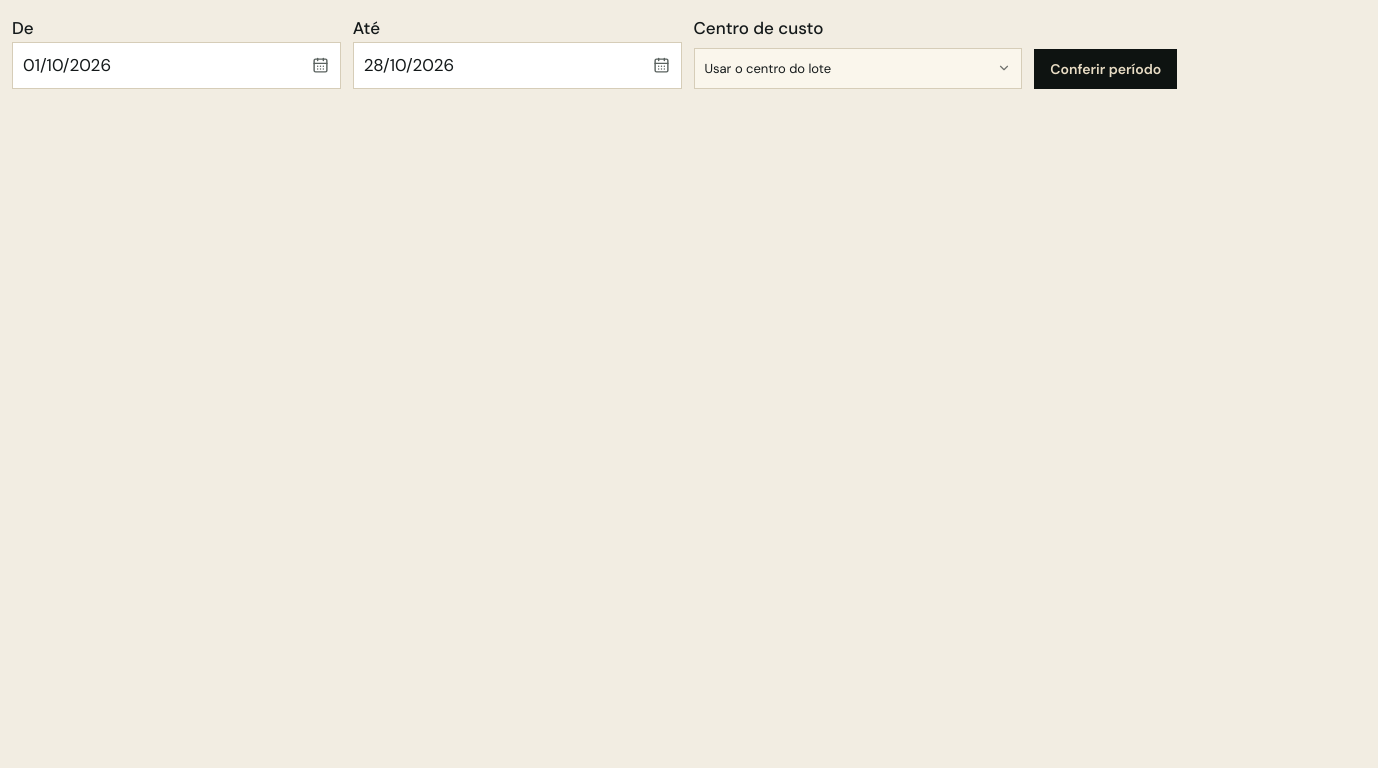
Test case: conferência nutricional dividida › atualiza MS e custo conferidos quando a quantidade e a origem mudam
The image size is (1378, 768).
Click the button "Conferir período": x=1106, y=69 [1034, 49, 1177, 89]
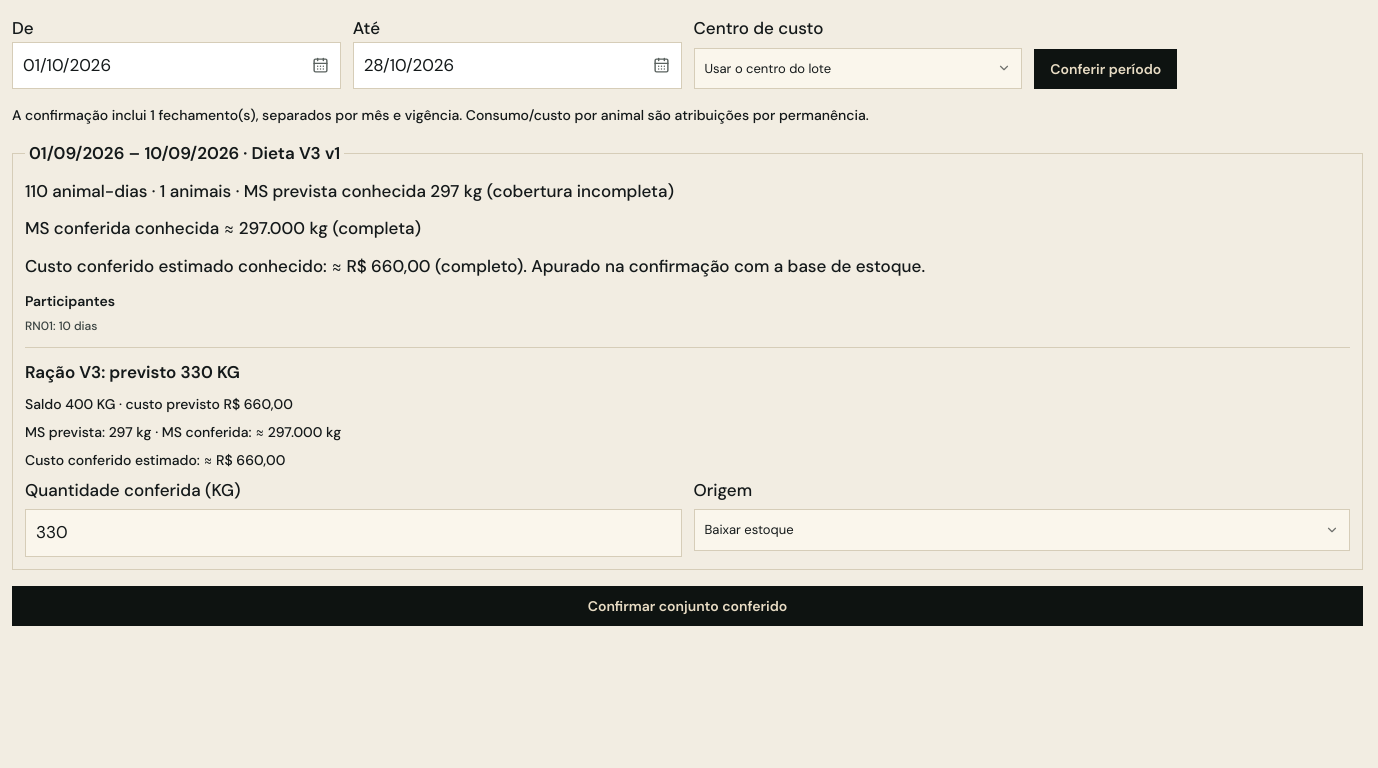
Expected: the text "Ração V3: previsto 330 KG" is shown, [25, 361, 240, 383]
Replace the text in the number field labelled "Quantidade conferida (KG)" with "320": x=353, y=533 [25, 509, 682, 556]
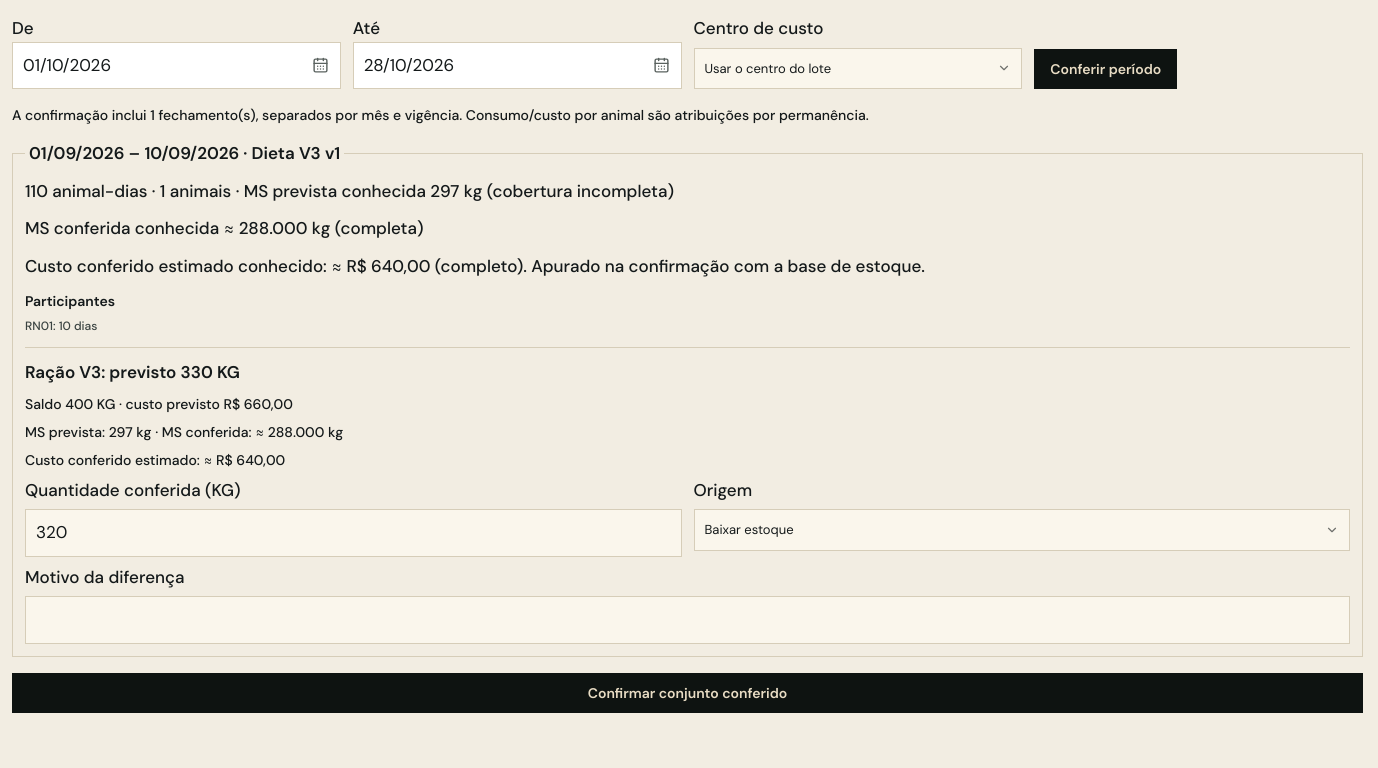
Expected: the text "Saldo 400 KG · custo previsto R$ 660,00" is shown, [25, 394, 293, 412]
Expected: the text "MS conferida conhecida ≈ 288.000 kg (completa)" is shown, [25, 217, 423, 239]
Expected: the text "Custo conferido estimado: ≈ R$ 640,00" is shown, [25, 450, 285, 468]
Click the dropdown named "Origem": x=749, y=530 [694, 509, 1350, 550]
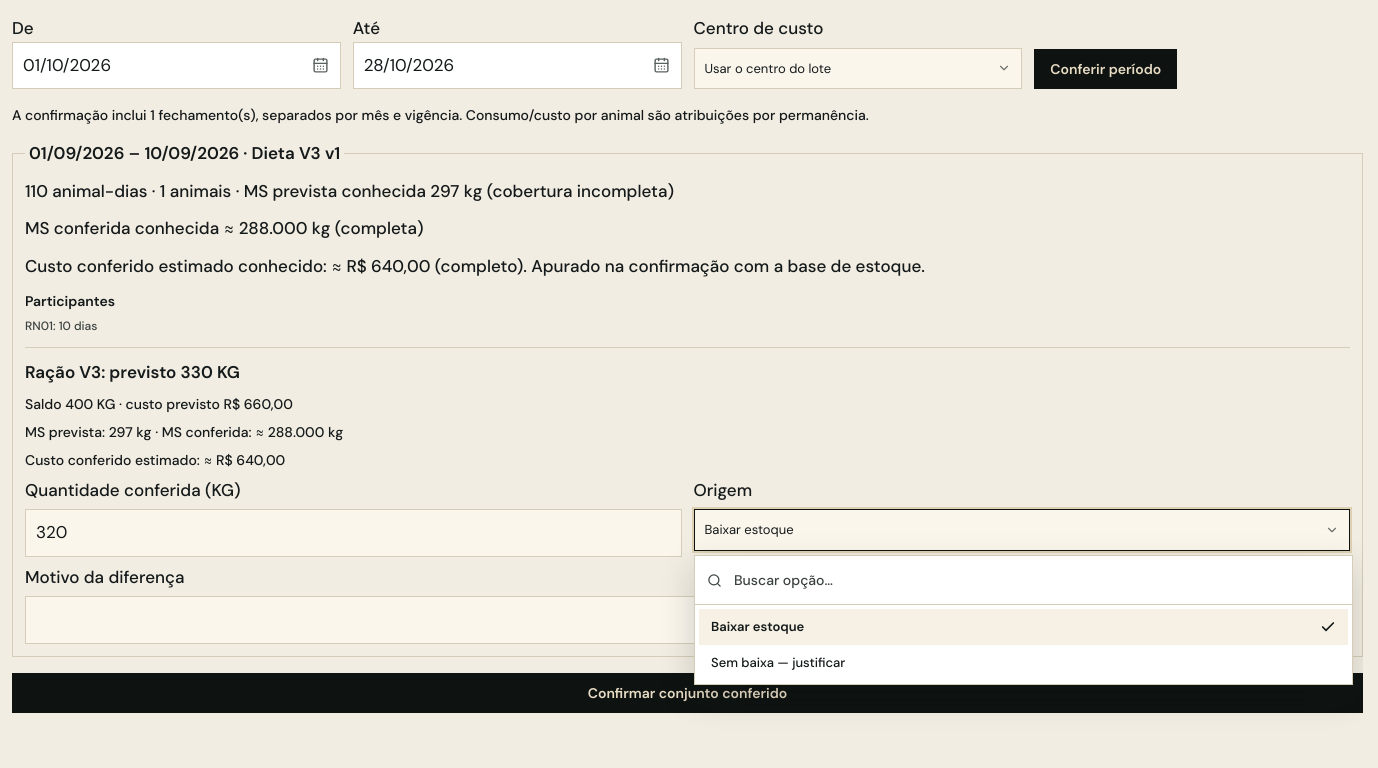
Click the option "Sem baixa — justificar": x=778, y=662 [711, 654, 845, 670]
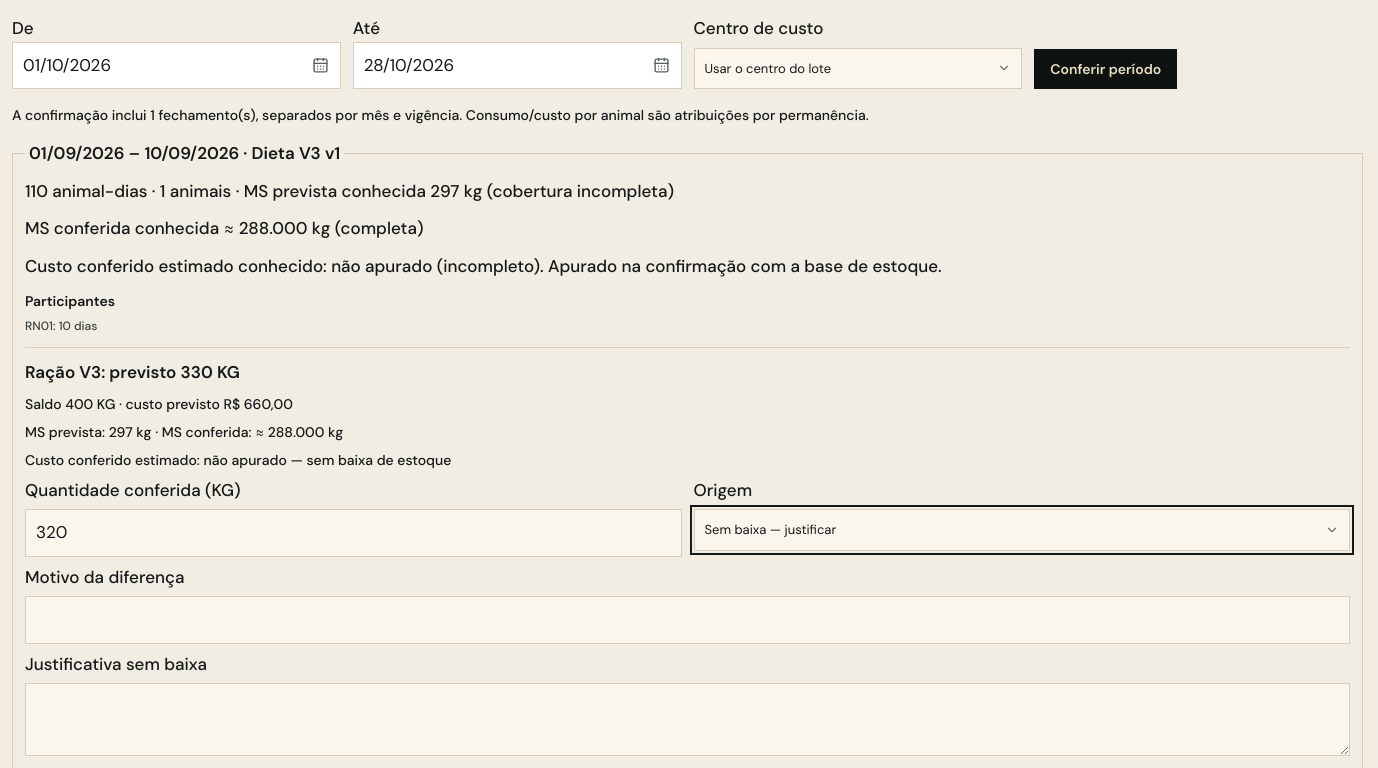
Expected: the text "Custo conferido estimado: não apurado — sem baixa de estoque" is shown, [25, 450, 451, 468]
